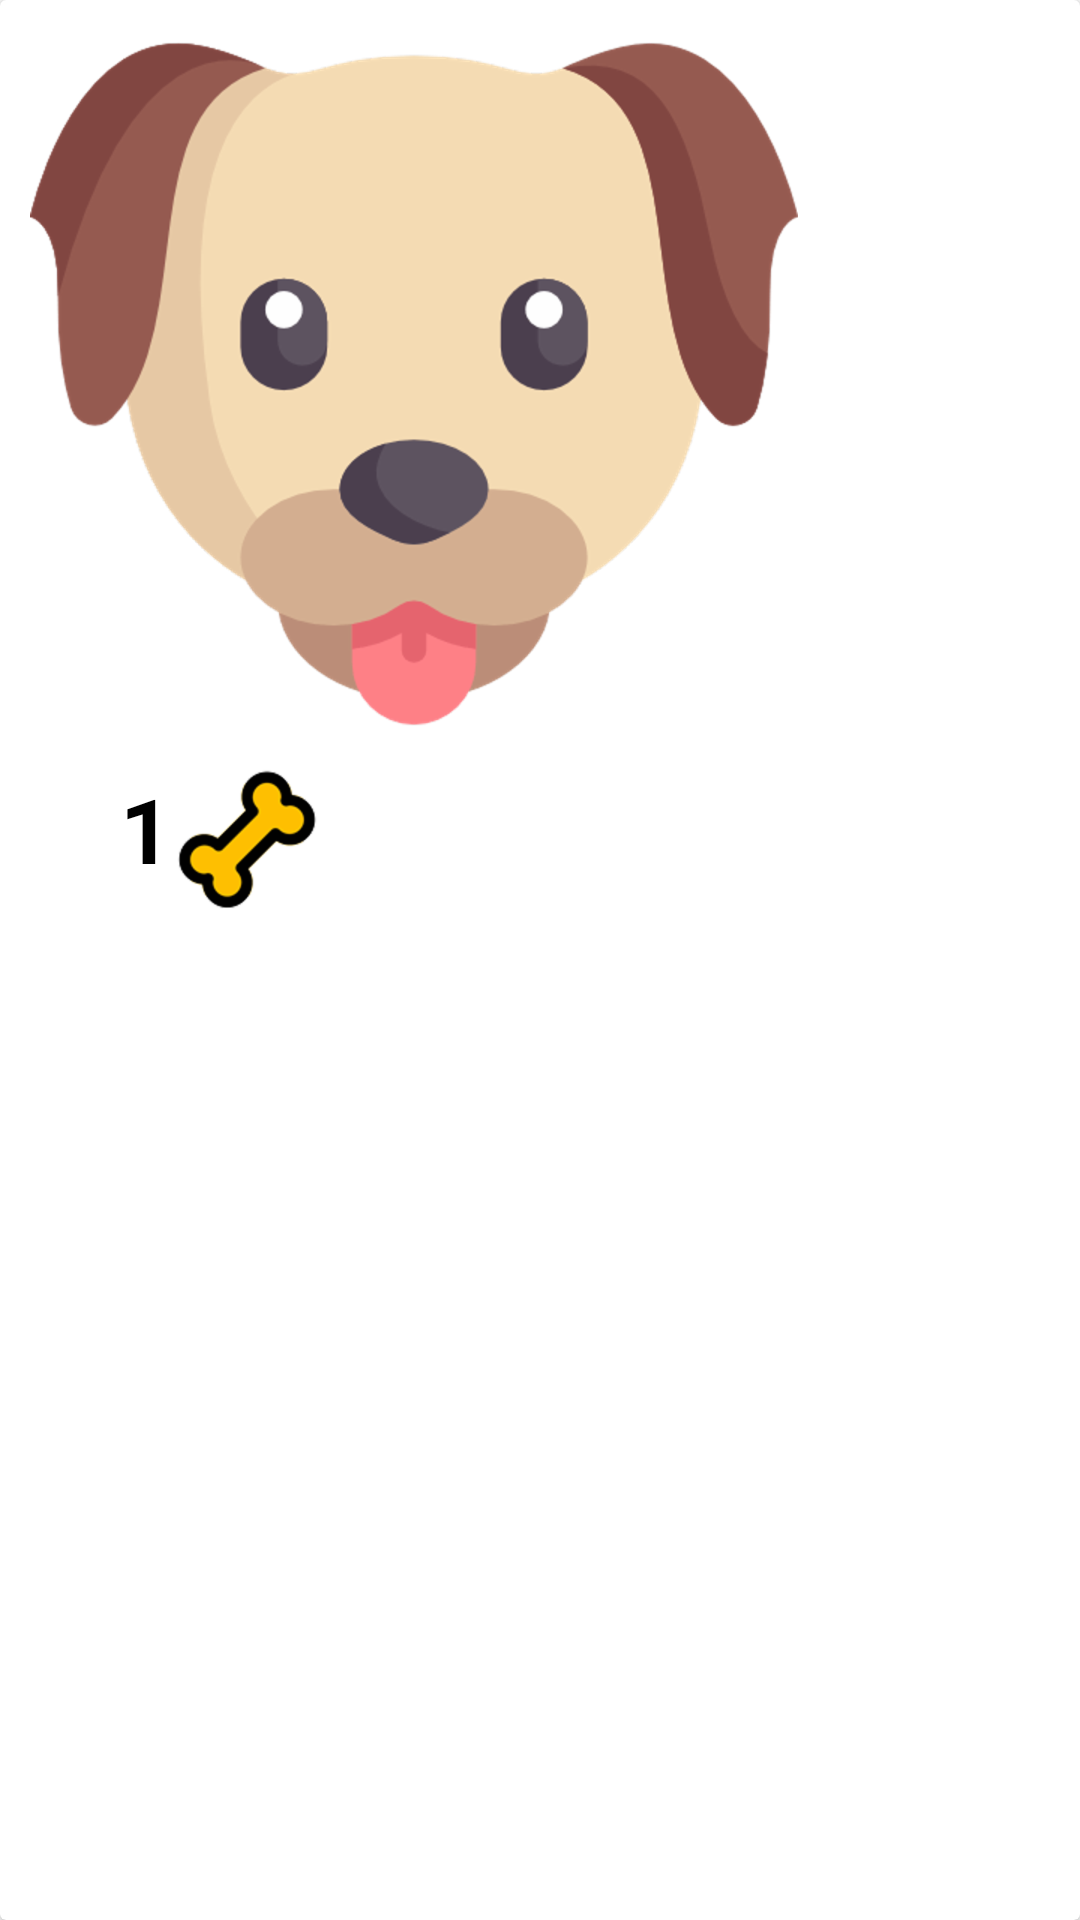

Icon bounding boxes for this 1080px×1920px phone screenshot, format bbox=(x1, y1, x2, y2):
hueso amarillo: bbox=(178, 771, 316, 908)
